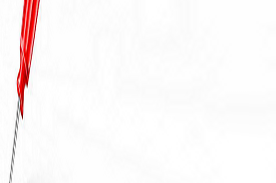Screwdriver: (4, 1, 50, 183)
